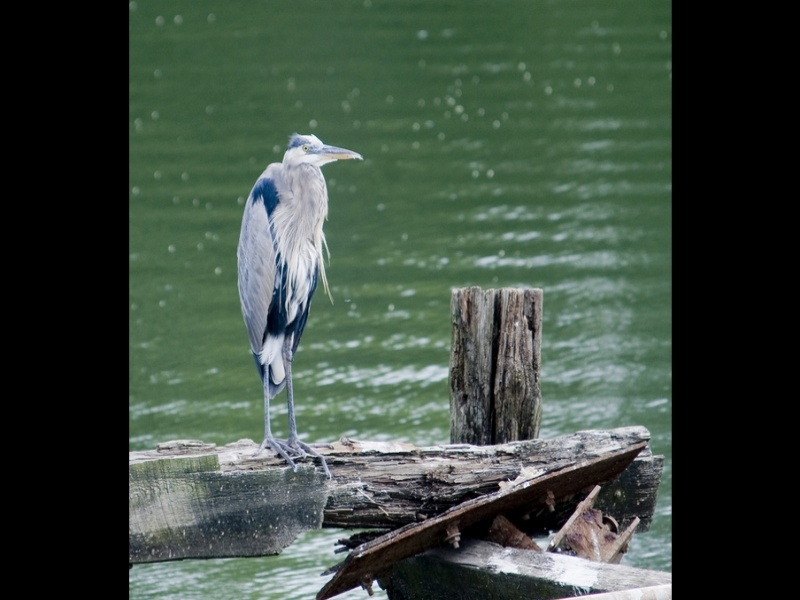heron: (234, 127, 364, 466)
